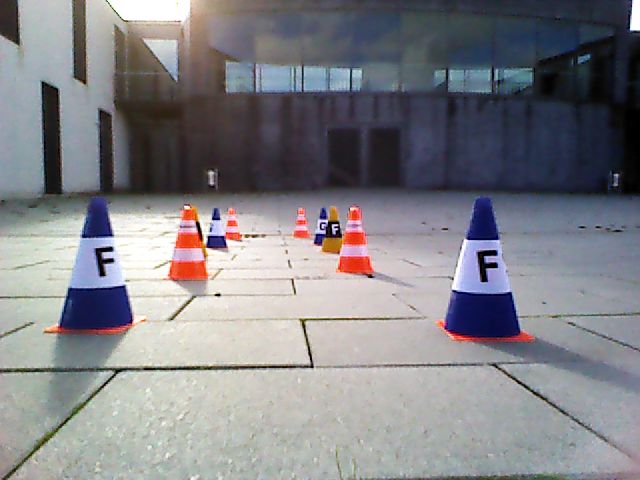bluecone: (447, 196, 523, 340), (60, 197, 134, 329), (204, 208, 227, 246)
orangeconesmall: (169, 206, 209, 280), (339, 206, 369, 271), (227, 208, 243, 238), (294, 207, 309, 236)
yellowcone: (324, 206, 343, 252)
